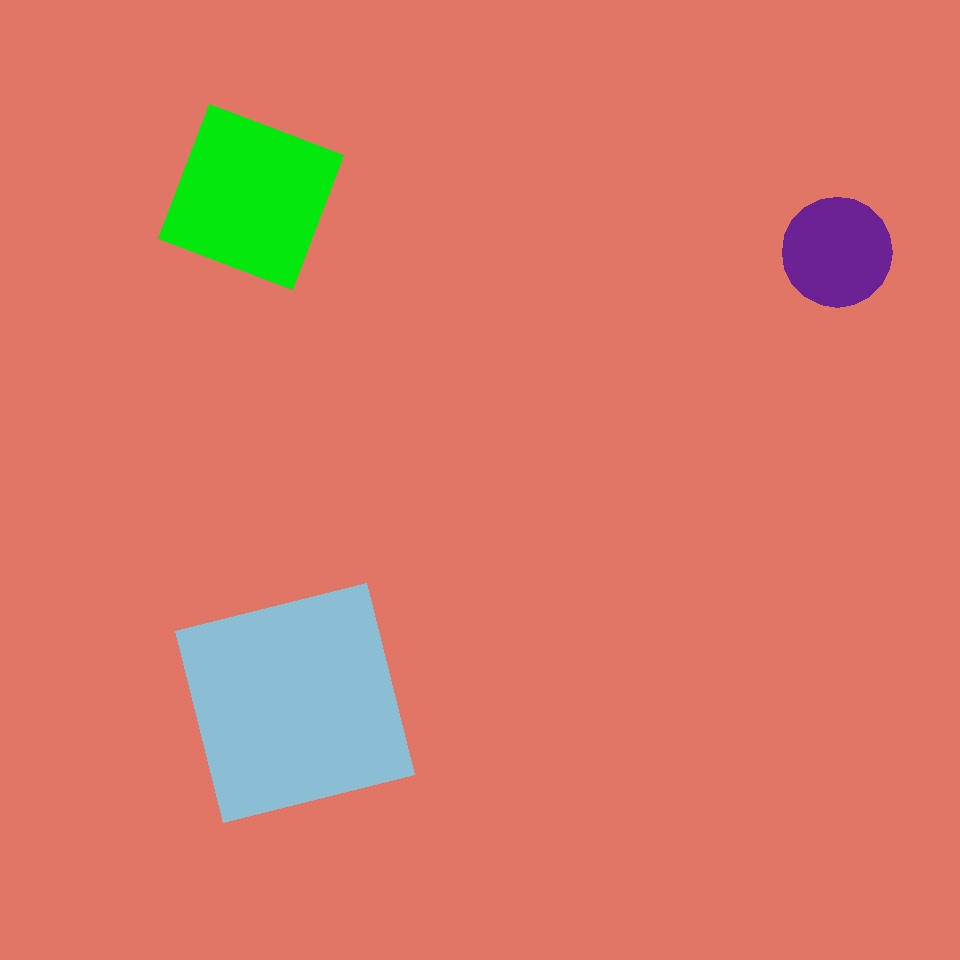circle: (420, 75, 708, 386), (711, 425, 932, 627), (290, 391, 444, 523)
square: (176, 584, 414, 822), (158, 104, 344, 290), (723, 652, 894, 823), (456, 385, 615, 544)
triangle: (782, 197, 892, 307)
